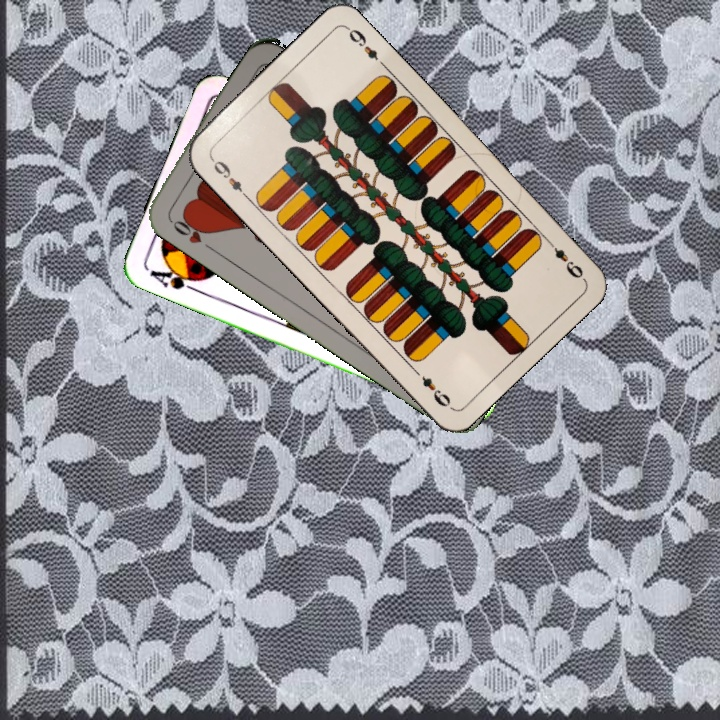E9: (206, 154, 251, 201), (542, 234, 586, 281)
HO: (164, 209, 216, 253)
SA: (145, 260, 205, 295)
